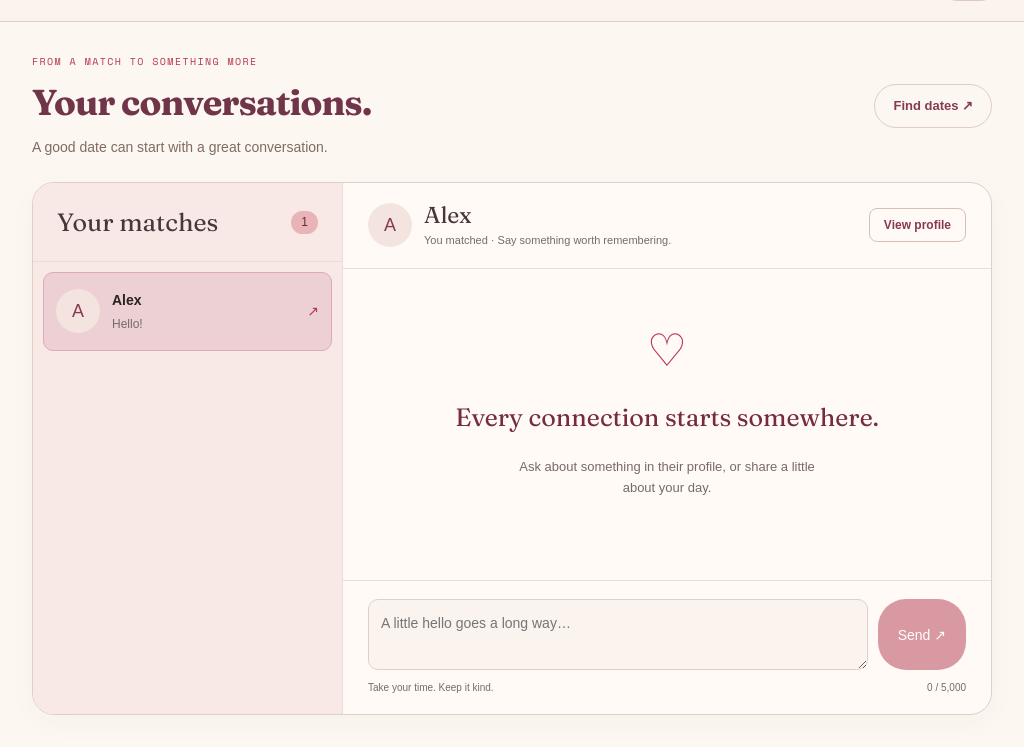
preserves the draft when sending fails
(page scrolled)
In the text box named "Message to Alex": (618, 635) [368,599,868,670], type "Still here"
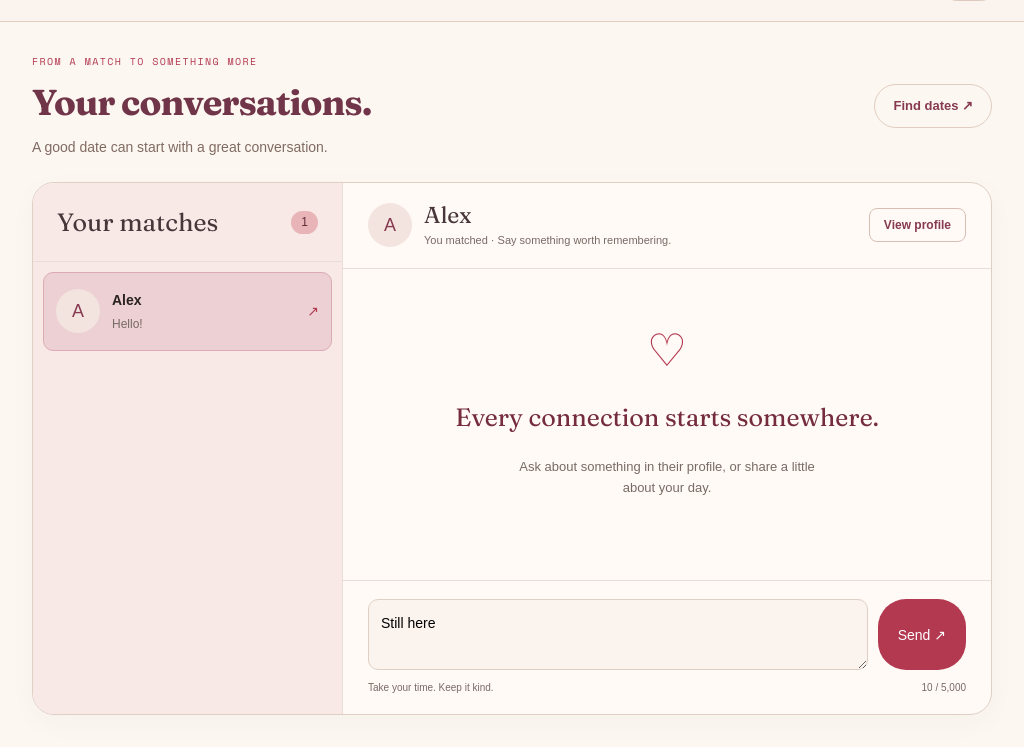
Click the button "Send ↗": (922, 635) [878,599,966,670]
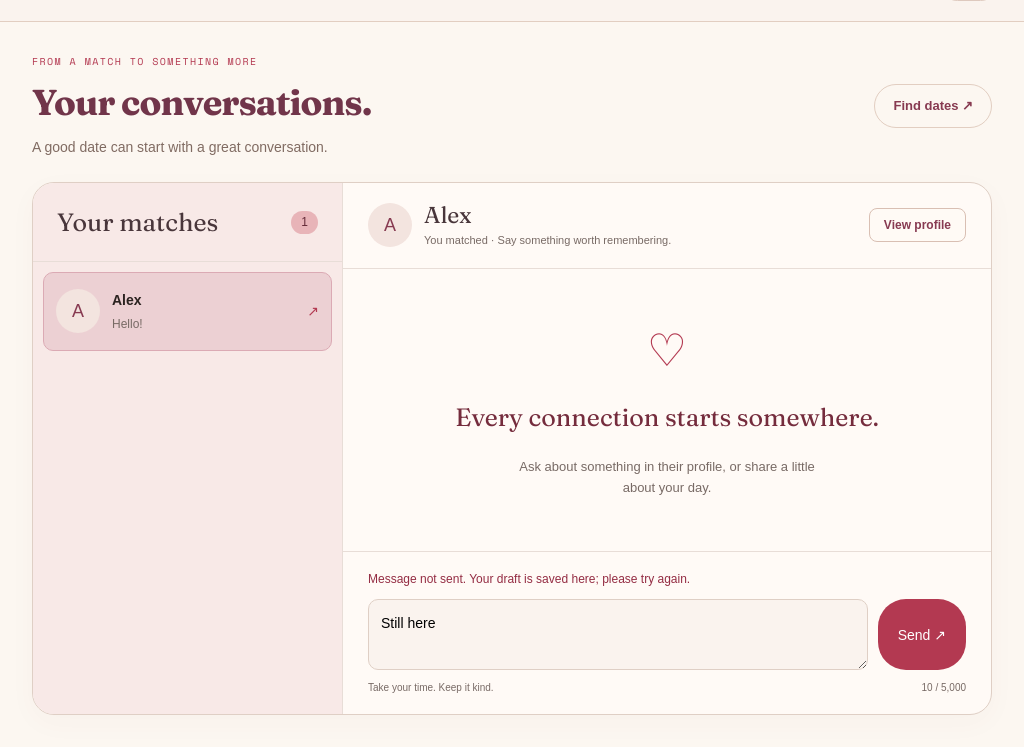
Check: the message "Message not sent. Your draft is saved here; please try again." is shown, box [368,572,690,586]
